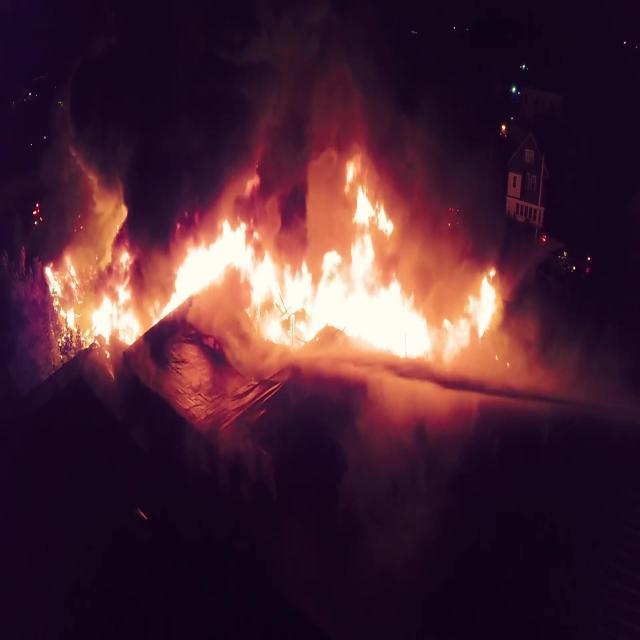Fire: (46, 140, 509, 366)
Smoke: (169, 6, 454, 218)
